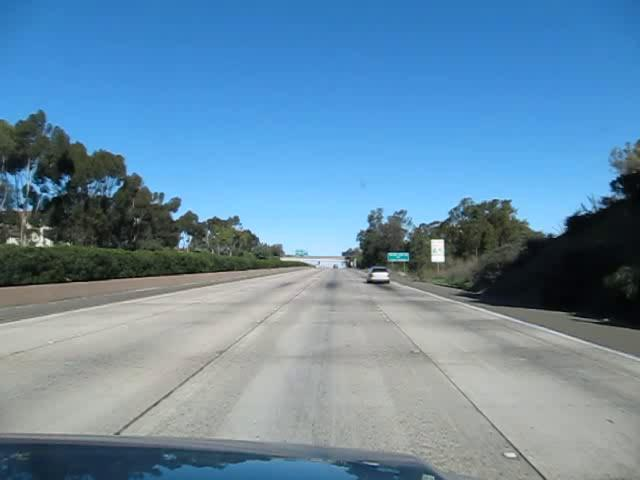speedLimit65: (429, 238, 445, 257)
